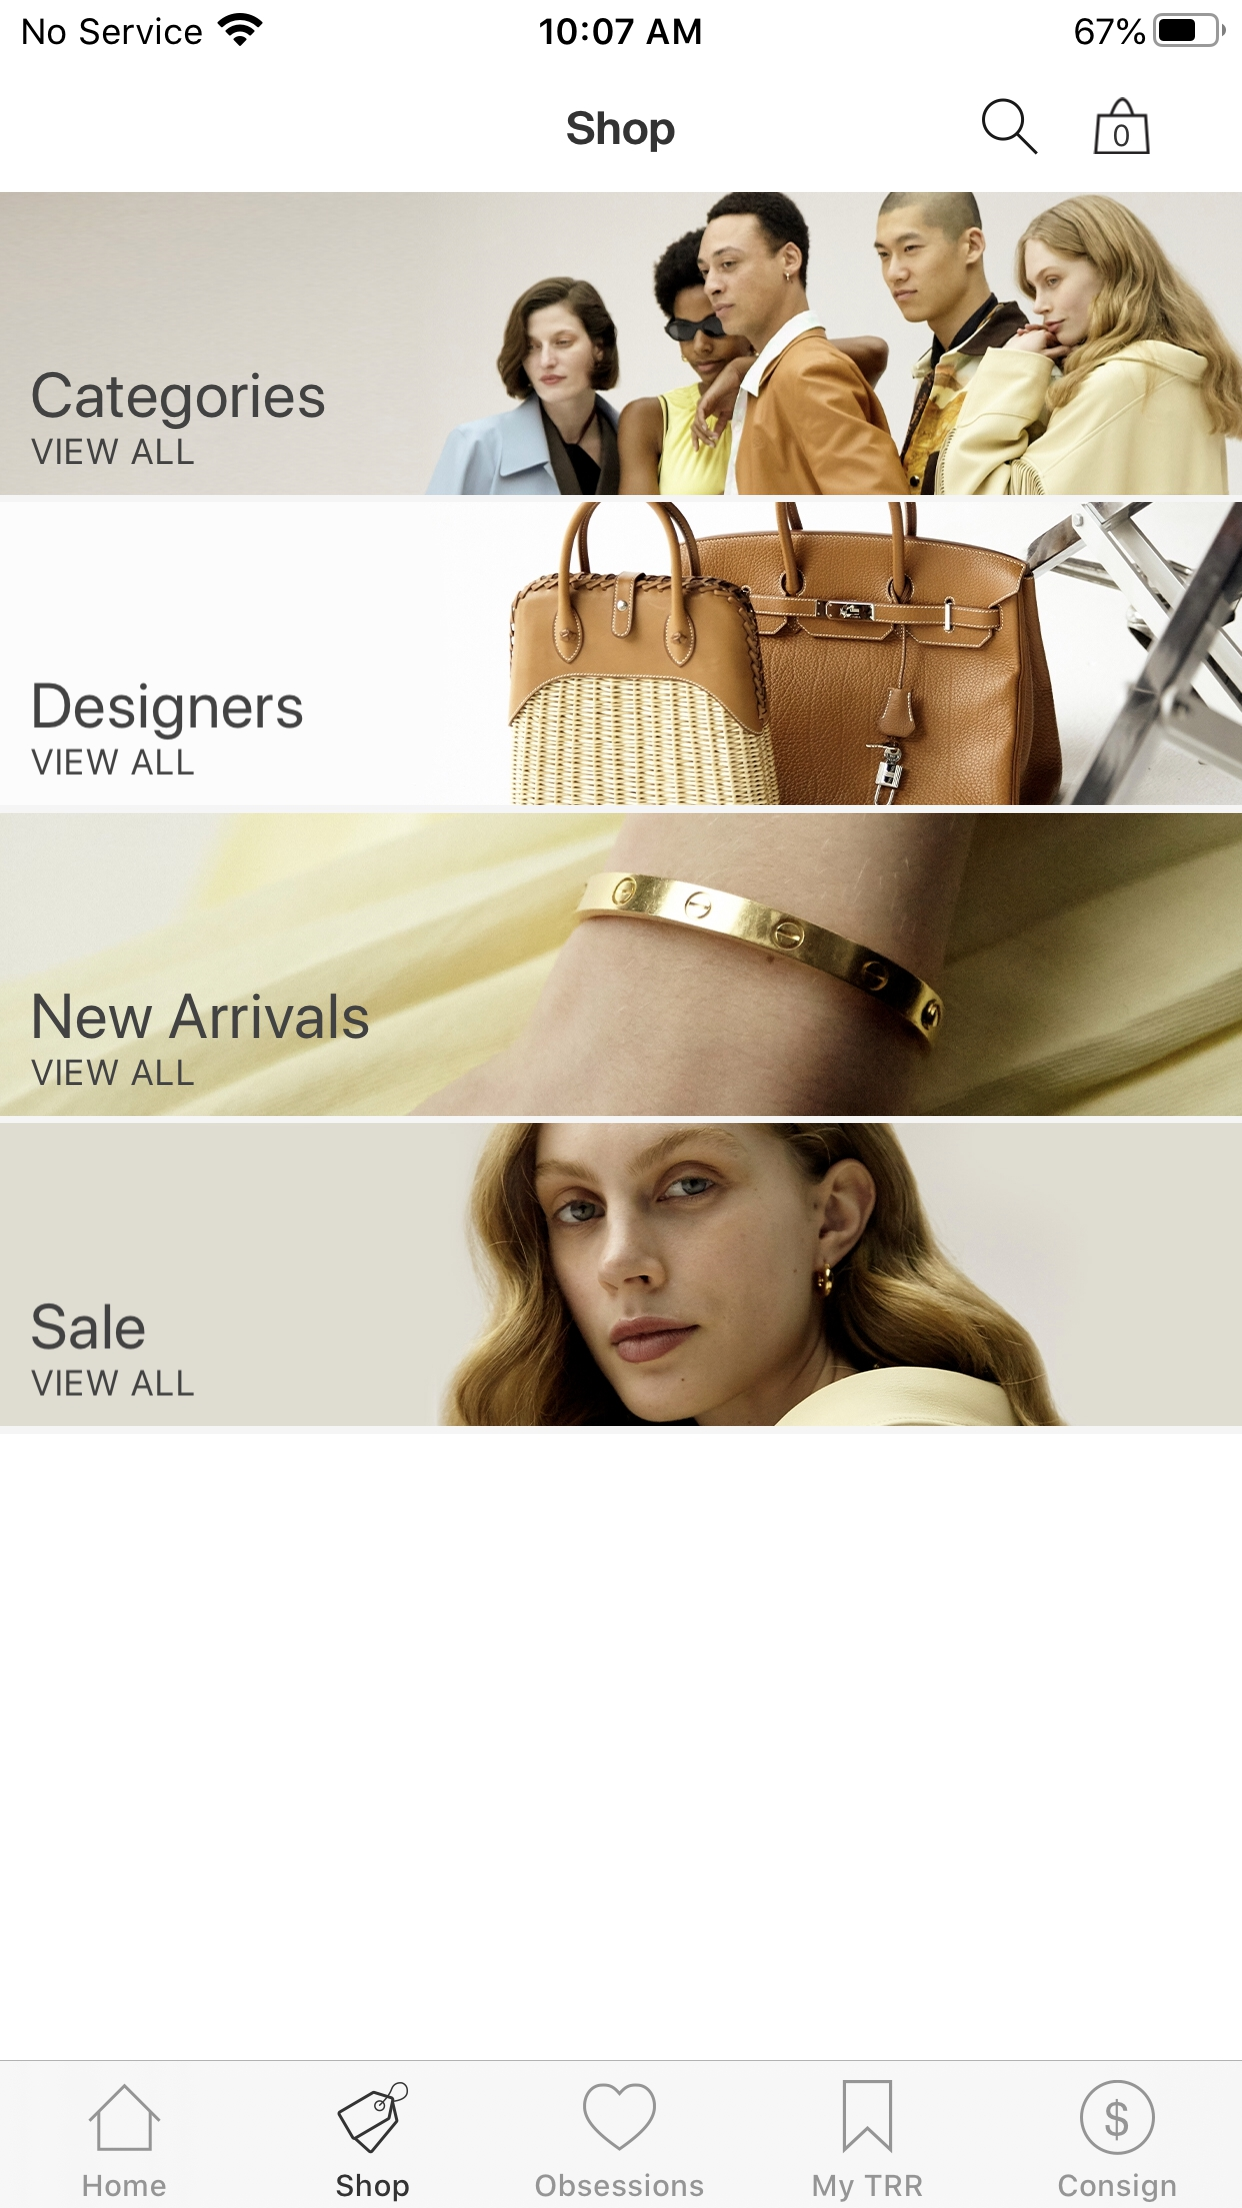Icon: (1080, 2081, 1156, 2153), (337, 2082, 408, 2153), (582, 2084, 657, 2150), (88, 2084, 161, 2150), (842, 2081, 893, 2153), (1093, 99, 1149, 155), (983, 99, 1037, 155)
Image: (2, 813, 1242, 1116), (2, 502, 1240, 805), (2, 193, 1242, 494), (2, 1124, 1240, 1425)
Text: (32, 372, 325, 429), (33, 682, 303, 740), (35, 993, 369, 1039), (32, 1303, 146, 1350), (30, 1369, 194, 1397), (30, 1059, 194, 1086), (30, 748, 194, 775), (567, 111, 675, 152), (30, 438, 194, 464), (535, 2173, 704, 2196), (1059, 2172, 1175, 2200), (813, 2175, 922, 2202), (337, 2173, 409, 2202), (83, 2175, 165, 2197)
UpperTaskBar: (2, 2, 1242, 49)
